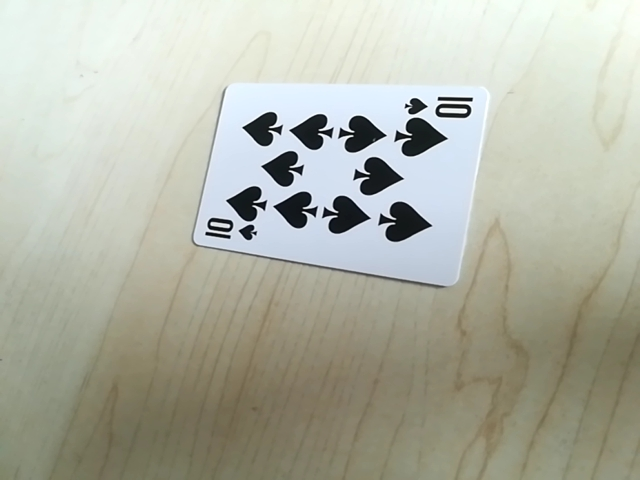ht 10: (403, 90, 482, 121), (199, 219, 260, 248)
